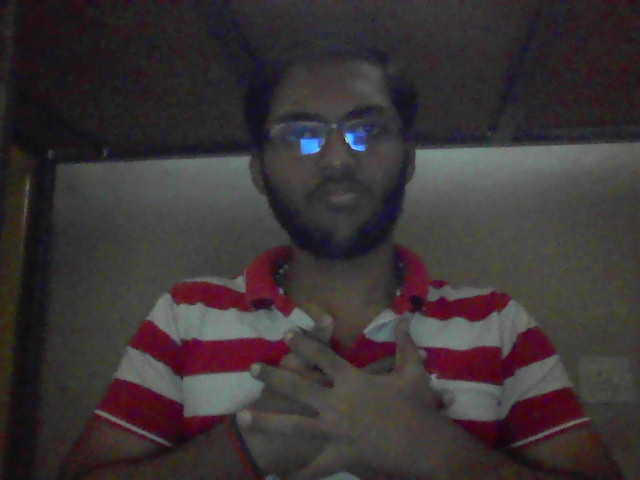Yes_Hungry: (221, 299, 457, 480)
